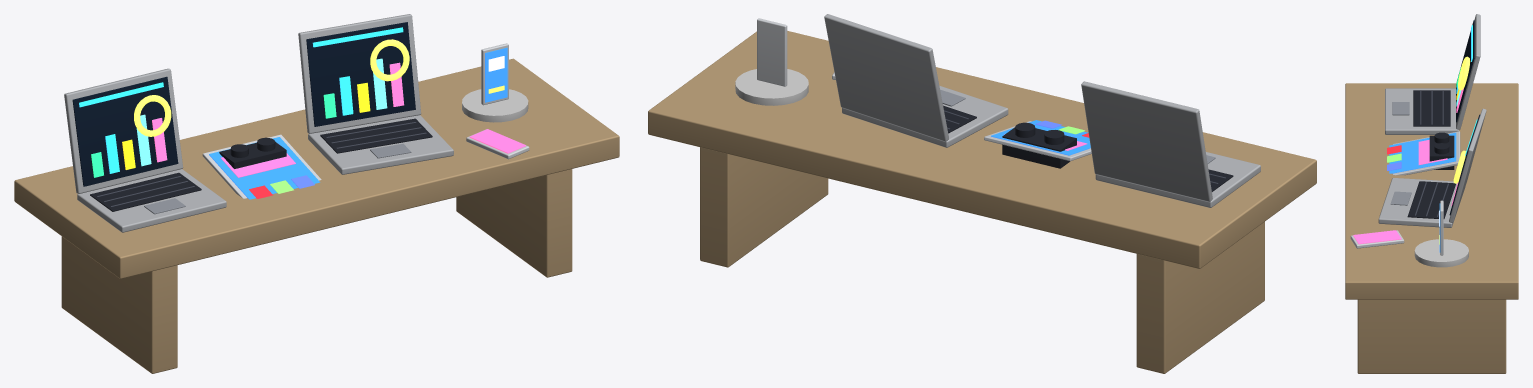
The model's file is product-table.glb.
3 renders of one model, left to right at view 1: azimuth 30°, elevation 25°; view 2: azimuth 150°, elevation 25°; view 3: azimuth 270°, elevation 25°, orthographic. The views are drawn at different scales.
Parts seen in each view (by area): view 1: product-table-solid, product-table-glow (×7), product-table-metal, phone-1-rotor-glow, phone-1-rotor-metal; view 2: product-table-solid, phone-1-rotor-metal, product-table-metal, product-table-glow; view 3: product-table-solid, product-table-glow (×3), product-table-metal, phone-1-rotor-metal.
Boxes of the visible parts, <box> form: product-table-solid: <box>14,14,619,373</box>; product-table-glow (×7): <box>79,27,525,199</box>; product-table-metal: <box>202,129,529,198</box>; phone-1-rotor-glow: <box>485,47,507,102</box>; phone-1-rotor-metal: <box>481,43,508,105</box>; product-table-solid: <box>648,14,1316,373</box>; phone-1-rotor-metal: <box>757,18,787,86</box>; product-table-metal: <box>832,72,1091,161</box>; product-table-glow: <box>991,120,1090,155</box>; product-table-solid: <box>1345,14,1518,373</box>; product-table-glow (×3): <box>1353,56,1470,244</box>; product-table-metal: <box>1350,131,1460,248</box>; phone-1-rotor-metal: <box>1440,200,1443,255</box>.
Bounding box in the file's own units: 1.52 × 0.6681 × 0.5595.
